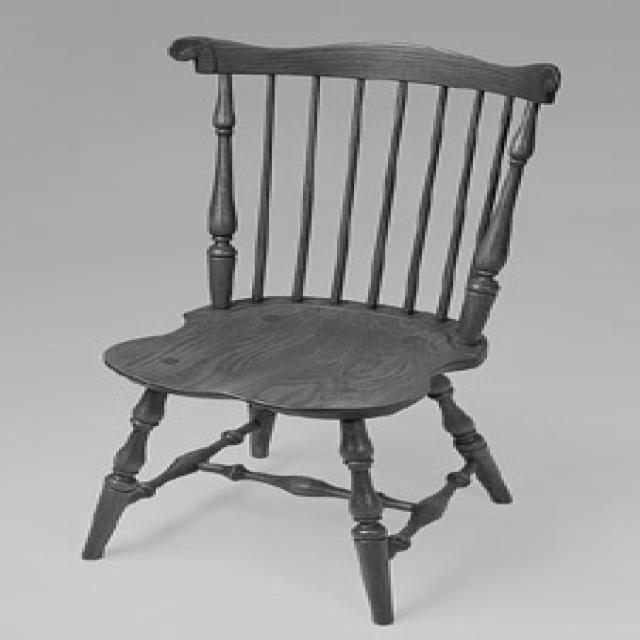chair: (82, 31, 566, 624)
